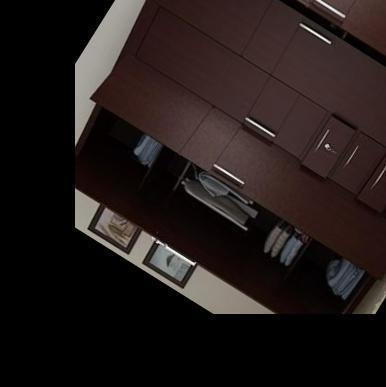Armario: (23, 0, 386, 361)
